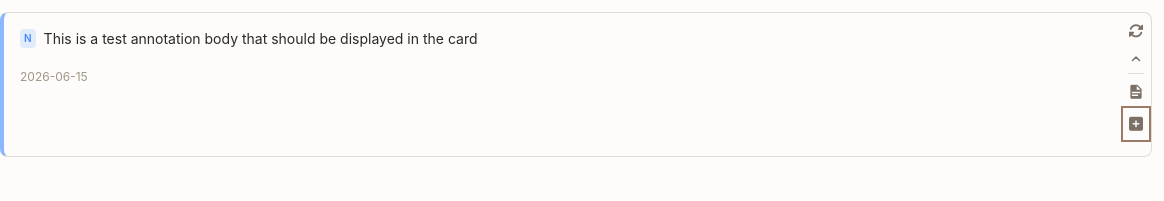
CardboxCard › action strip (#981) › reassigns the roving tab stop when the active control unmounts
The width and height of the screenshot is (1164, 201).
Click the button with test id "card-note-add". click: click(1136, 124)
box: [1123,108,1149,140]
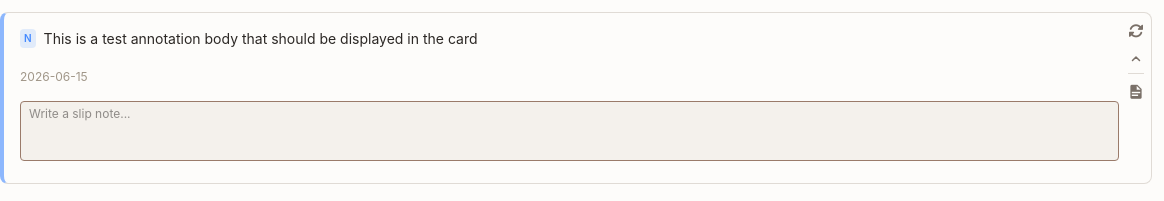
Expected: the button with test id "card-note-add" is gone
